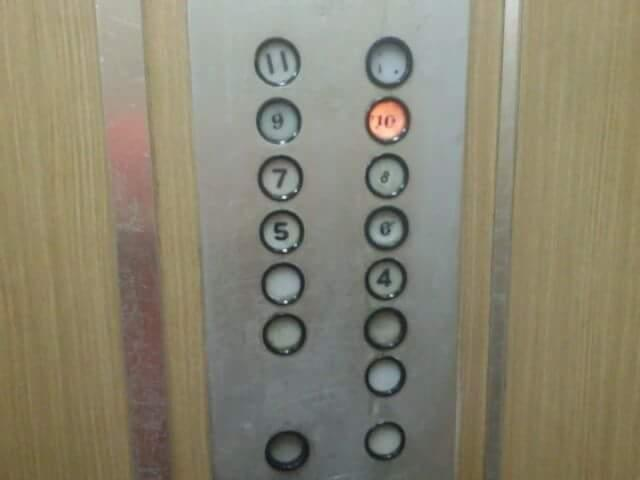10: (361, 92, 410, 144)
11: (251, 33, 301, 86)
4: (361, 254, 406, 299)
5: (255, 205, 304, 256)
6: (364, 205, 408, 249)
7: (255, 151, 302, 202)
8: (361, 151, 409, 199)
9: (255, 97, 301, 143)
blur: (364, 35, 412, 88)
unknown: (258, 258, 304, 304), (262, 426, 309, 471), (361, 303, 406, 349), (261, 312, 305, 355), (362, 417, 405, 460), (363, 353, 405, 397)
